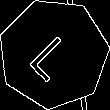L_NE: (24, 25, 83, 83)
